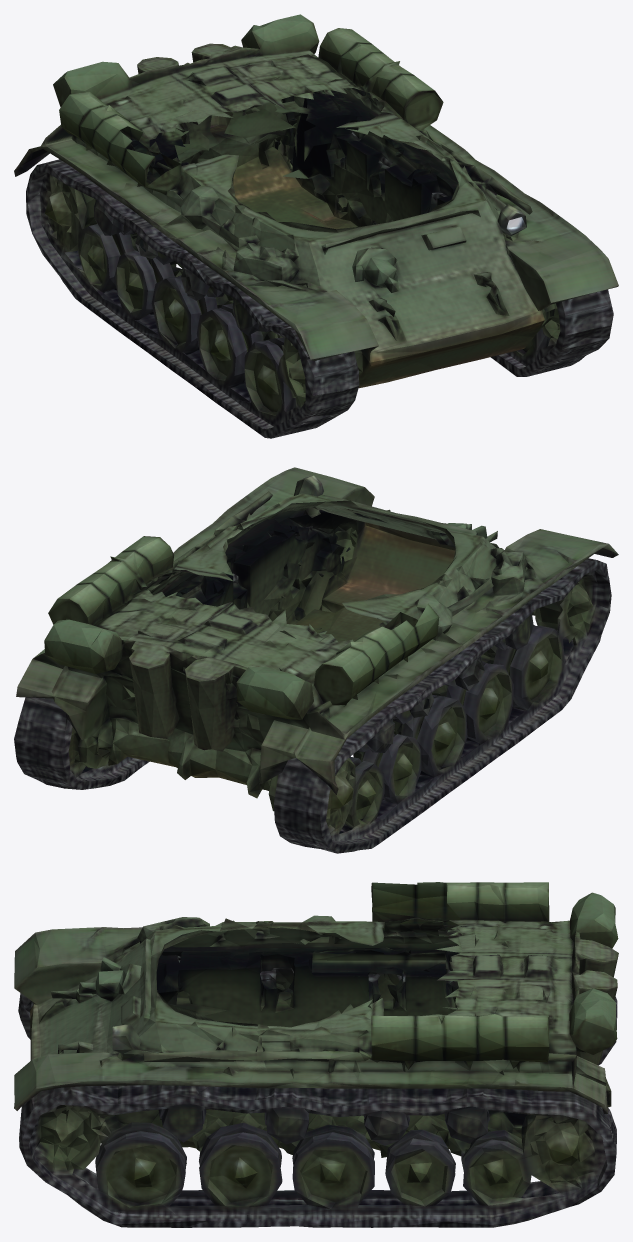
Rendered from is2_hull.glb.
3 renders of one model, top to bottom at view 1: azimuth 30°, elevation 25°; view 2: azimuth 150°, elevation 25°; view 3: azimuth 270°, elevation 25°, orthographic. The views are drawn at different scales.
Visible parts, largest first — view 1: is2_00001_.glb; view 2: is2_00001_.glb; view 3: is2_00001_.glb.
Boxes of the visible parts, bbox=[...] form: is2_00001_.glb: bbox=[14, 14, 618, 438]; is2_00001_.glb: bbox=[14, 467, 618, 853]; is2_00001_.glb: bbox=[14, 882, 618, 1227].
Bounding box in the file's own units: 4.24 × 2.48 × 6.68.
Materials: 1 (1 with a texture image).
